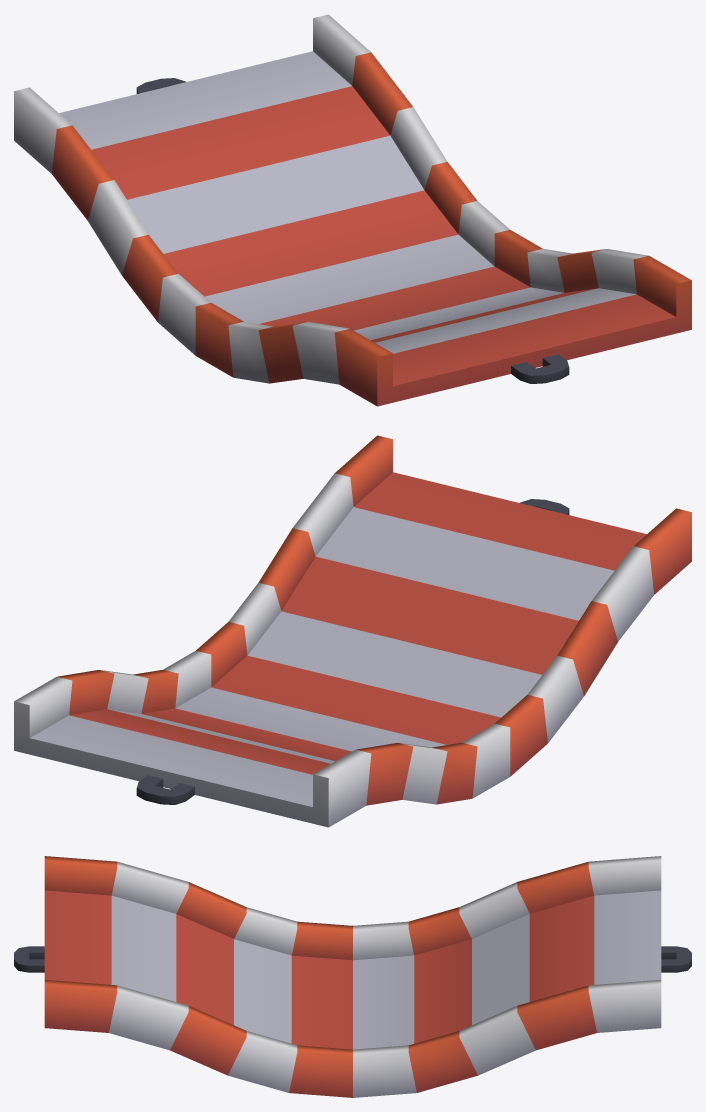
The model's file is track-striped-wide-straight-bump-down.glb.
3 renders of one model, top to bottom at view 1: azimuth 30°, elevation 25°; view 2: azimuth 150°, elevation 25°; view 3: azimuth 270°, elevation 25°, orthographic. The views are drawn at different scales.
Parts seen in each view (by area): view 1: track-striped-wide-straight-bump-down; view 2: track-striped-wide-straight-bump-down; view 3: track-striped-wide-straight-bump-down.
Boxes of the visible parts, x1,y1,x2,y2 form: track-striped-wide-straight-bump-down: (14,14,691,406); track-striped-wide-straight-bump-down: (14,435,691,827); track-striped-wide-straight-bump-down: (14,856,691,1097).
Size of the model in its own units: 2 by 0.8 by 4.4.
